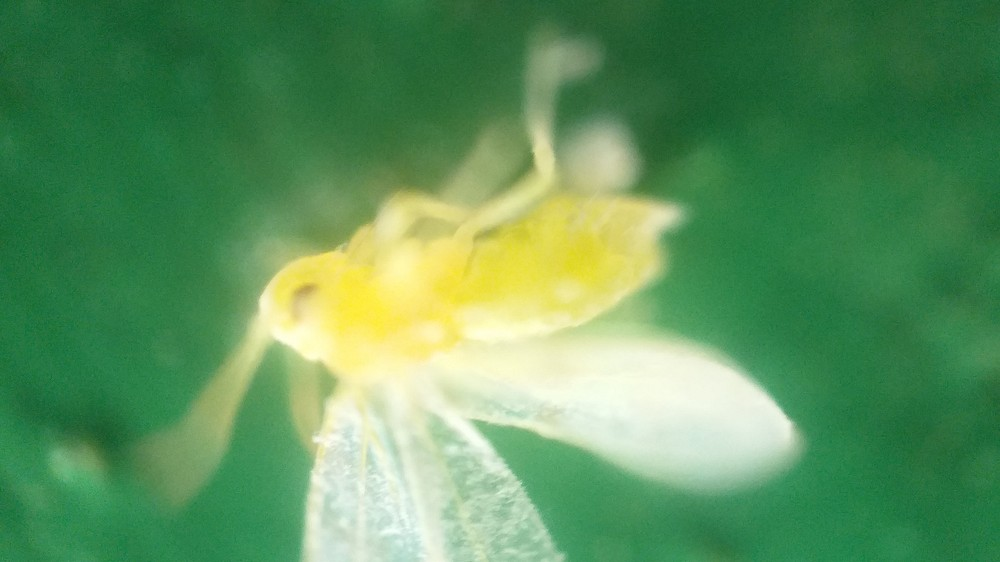Mosca Blanca: (150, 41, 816, 562)
